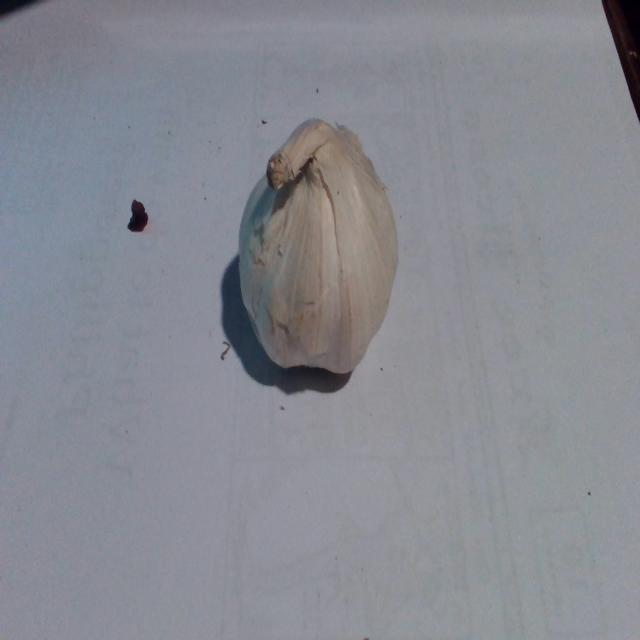garlic: (236, 126, 402, 384)
